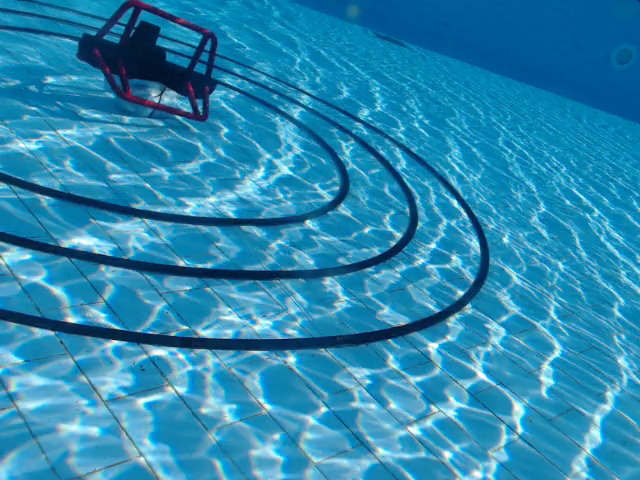submarine: (75, 1, 219, 123)
